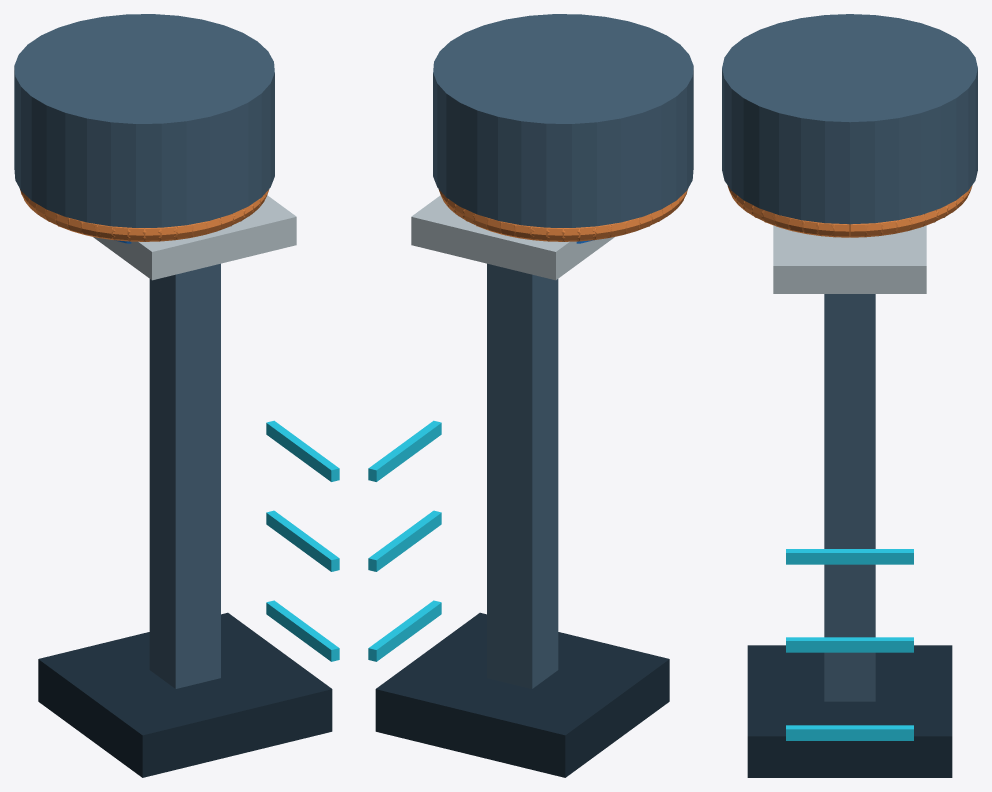
The model's file is 44_L73_EddyCurrentThicknessSensor.fbx.
3 views of the same model, side by side, from view 1: azimuth 30°, elevation 25°; view 2: azimuth 150°, elevation 25°; view 3: azimuth 270°, elevation 25° (orthographic).
Visible parts, largest first — view 1: EddyCurrentThicknessSensor, EddyCurrentThicknessSensor_Part_0003; view 2: EddyCurrentThicknessSensor, EddyCurrentThicknessSensor_Part_0003; view 3: EddyCurrentThicknessSensor, EddyCurrentThicknessSensor_Part_0003.
Boxes of the visible parts, left/top/right/bottom form: EddyCurrentThicknessSensor: left=38, top=195, right=339, bottom=777; EddyCurrentThicknessSensor_Part_0003: left=14, top=14, right=274, bottom=227; EddyCurrentThicknessSensor: left=368, top=195, right=669, bottom=777; EddyCurrentThicknessSensor_Part_0003: left=433, top=14, right=693, bottom=227; EddyCurrentThicknessSensor: left=747, top=225, right=952, bottom=777; EddyCurrentThicknessSensor_Part_0003: left=722, top=14, right=977, bottom=224.
Bounding box in the file's own units: 60.9 × 139 × 50.
